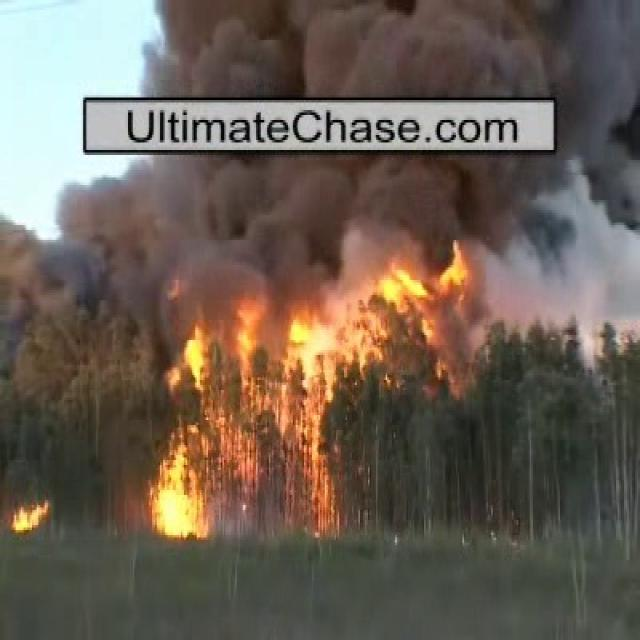fire: (185, 306, 339, 523)
smoke: (161, 0, 631, 267)
